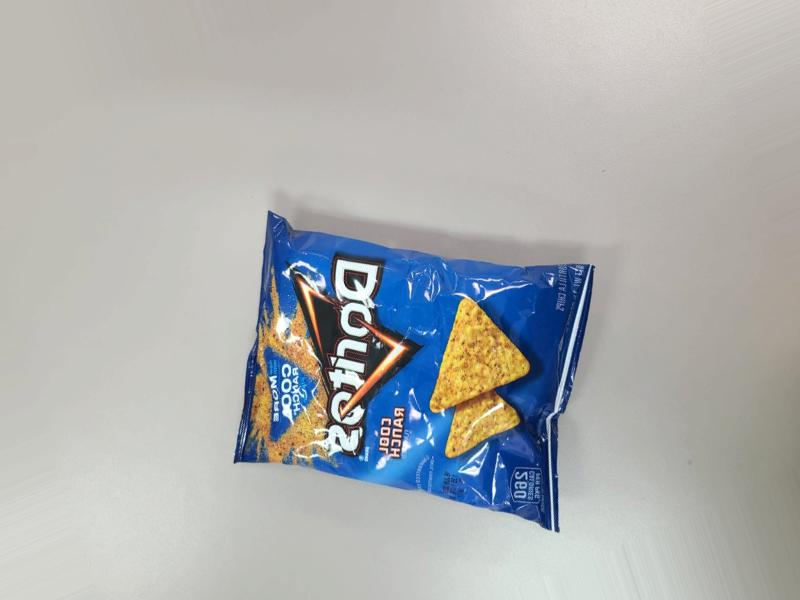doritos: (203, 214, 604, 534)
